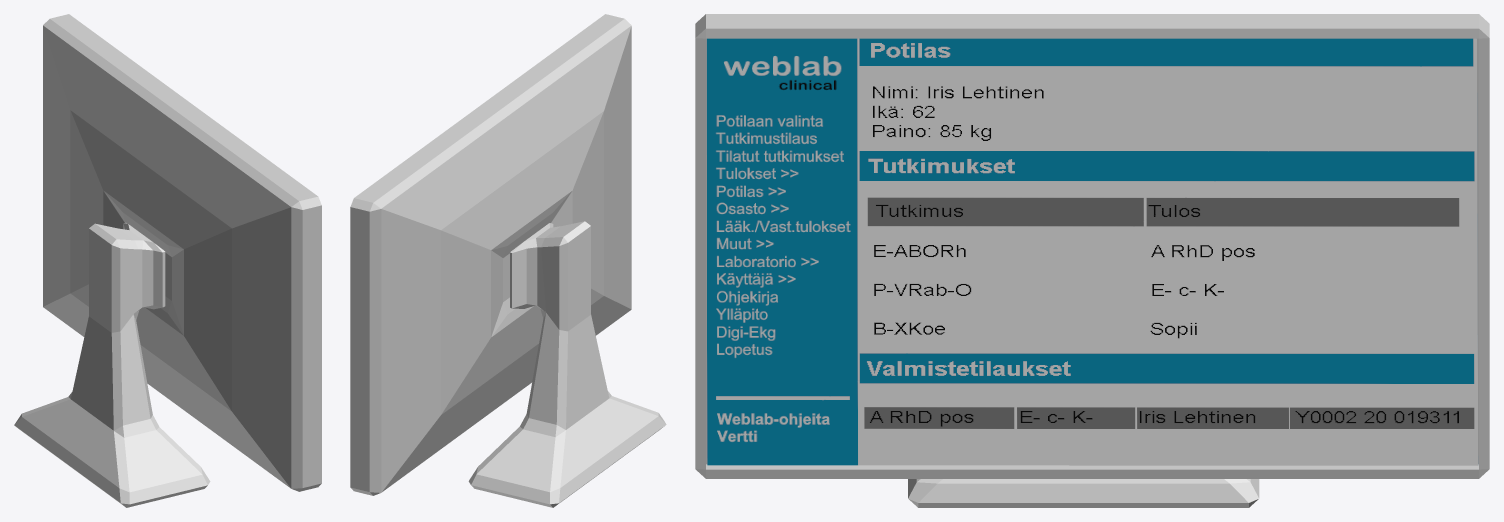
File: Tietokonenaytto.fbx
3 renders of one model, left to right at view 1: azimuth 30°, elevation 25°; view 2: azimuth 150°, elevation 25°; view 3: azimuth 270°, elevation 25°, orthographic. The views are drawn at different scales.
Parts seen in each view (by area): view 1: Näyttö, Näytön jalka; view 2: Näyttö, Näytön jalka; view 3: KUva, Näyttö, Näytön jalka.
Part boxes in pixels (<box>): Näyttö: <box>43,14,321,491</box>; Näytön jalka: <box>14,222,210,507</box>; Näyttö: <box>350,14,631,495</box>; Näytön jalka: <box>468,221,666,507</box>; KUva: <box>706,38,1478,465</box>; Näyttö: <box>695,14,1489,478</box>; Näytön jalka: <box>908,479,1259,507</box>.
Size of the model in its own units: 38.5 by 94.08 by 132.
